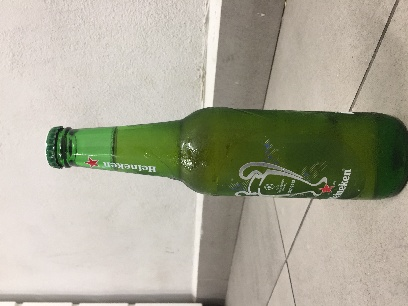HB: (171, 111, 268, 143), (60, 112, 118, 124)
